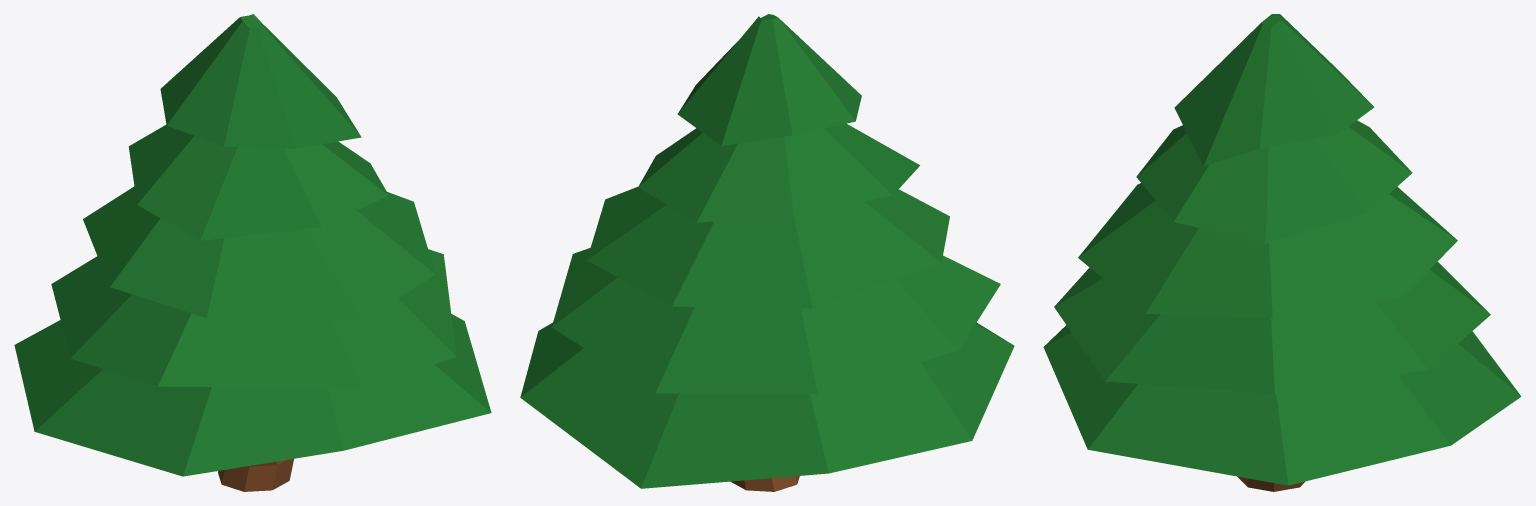
File: smreka.glb
3 views of the same model, side by side, from view 1: azimuth 30°, elevation 25°; view 2: azimuth 150°, elevation 25°; view 3: azimuth 270°, elevation 25° (orthographic).
Visible parts, largest first — view 1: Cylinder; view 2: Cylinder; view 3: Cylinder.
Boxes of the visible parts, left/top/right/bottom form: Cylinder: left=14, top=14, right=491, bottom=491; Cylinder: left=520, top=14, right=1014, bottom=491; Cylinder: left=1043, top=14, right=1521, bottom=491.
Size of the model in its own units: 8.21 by 8.37 by 7.93.
